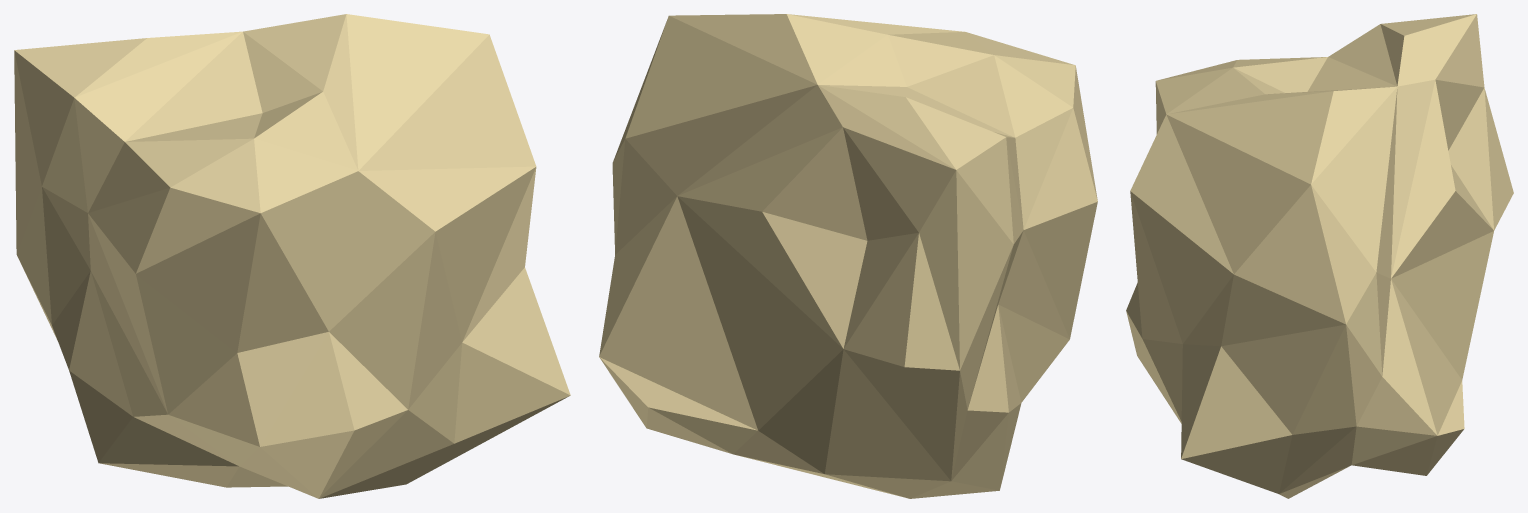
The model's file is Rock (40).fbx.
3 renders of one model, left to right at view 1: azimuth 30°, elevation 25°; view 2: azimuth 150°, elevation 25°; view 3: azimuth 270°, elevation 25°, orthographic. The views are drawn at different scales.
Visible parts, largest first — view 1: Asteroid39; view 2: Asteroid39; view 3: Asteroid39.
Boxes of the visible parts, x1,y1,x2,y2 form: Asteroid39: (14, 14, 570, 498); Asteroid39: (599, 14, 1097, 498); Asteroid39: (1126, 14, 1513, 498).
Bounding box in the file's own units: 183 × 181 × 162.
